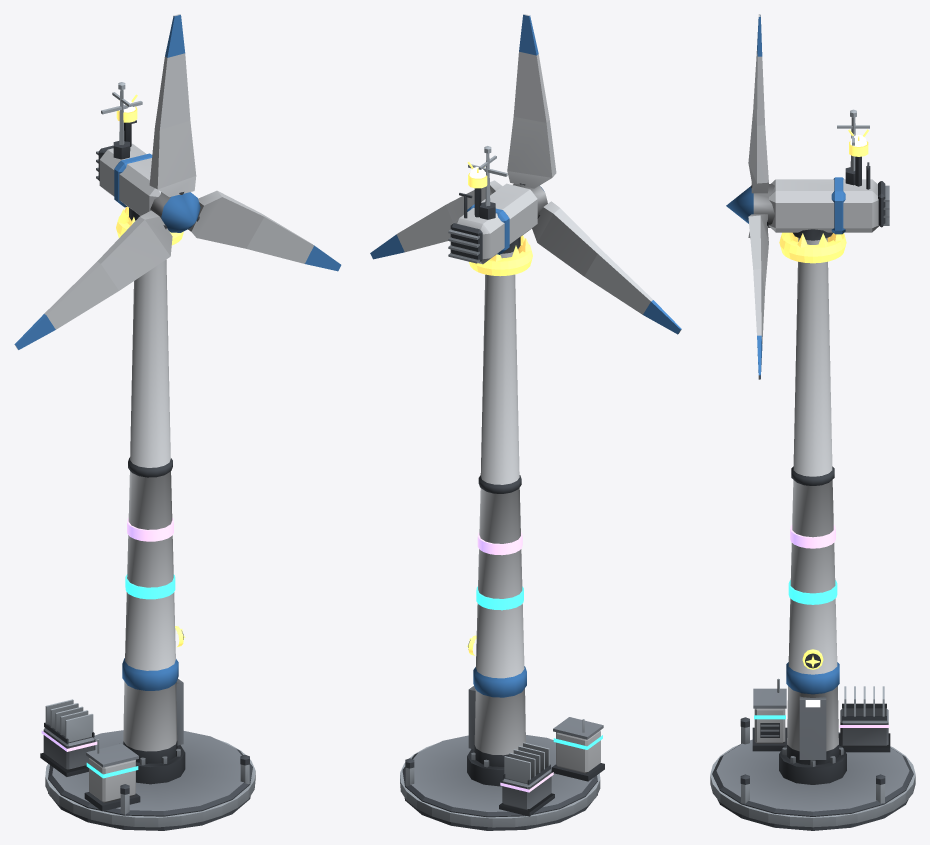
The model's file is wind_turbine_s.glb.
The picture shows the model from 3 angles, left to right: view 1: azimuth 30°, elevation 25°; view 2: azimuth 150°, elevation 25°; view 3: azimuth 270°, elevation 25°; orthographic projection. The views are drawn at different scales.
Visible parts, largest first — view 1: Base, Rotor, L2, L4, L3, L5; view 2: Base, Rotor, L4, L2, L3, L5; view 3: Base, Rotor, L2, L4, L3, L5.
Boxes of the visible parts, x1=… form: Base: x1=48, y1=120, x2=252, y2=830; Rotor: x1=14, y1=14, x2=341, y2=349; L2: x1=45, y1=82, x2=255, y2=827; L4: x1=40, y1=517, x2=173, y2=776; L3: x1=84, y1=574, x2=175, y2=811; L5: x1=116, y1=94, x2=185, y2=646; Base: x1=402, y1=183, x2=597, y2=830; Rotor: x1=370, y1=14, x2=681, y2=334; L4: x1=477, y1=532, x2=554, y2=816; L2: x1=400, y1=146, x2=600, y2=827; L3: x1=476, y1=586, x2=604, y2=781; L5: x1=466, y1=161, x2=532, y2=655; Base: x1=712, y1=162, x2=913, y2=830; Rotor: x1=726, y1=14, x2=774, y2=379; L2: x1=710, y1=109, x2=915, y2=827; L4: x1=790, y1=524, x2=890, y2=752; L3: x1=752, y1=580, x2=837, y2=751; L5: x1=779, y1=129, x2=868, y2=669.
Bounding box in the file's own units: 3.59 × 8.33 × 2.01.
